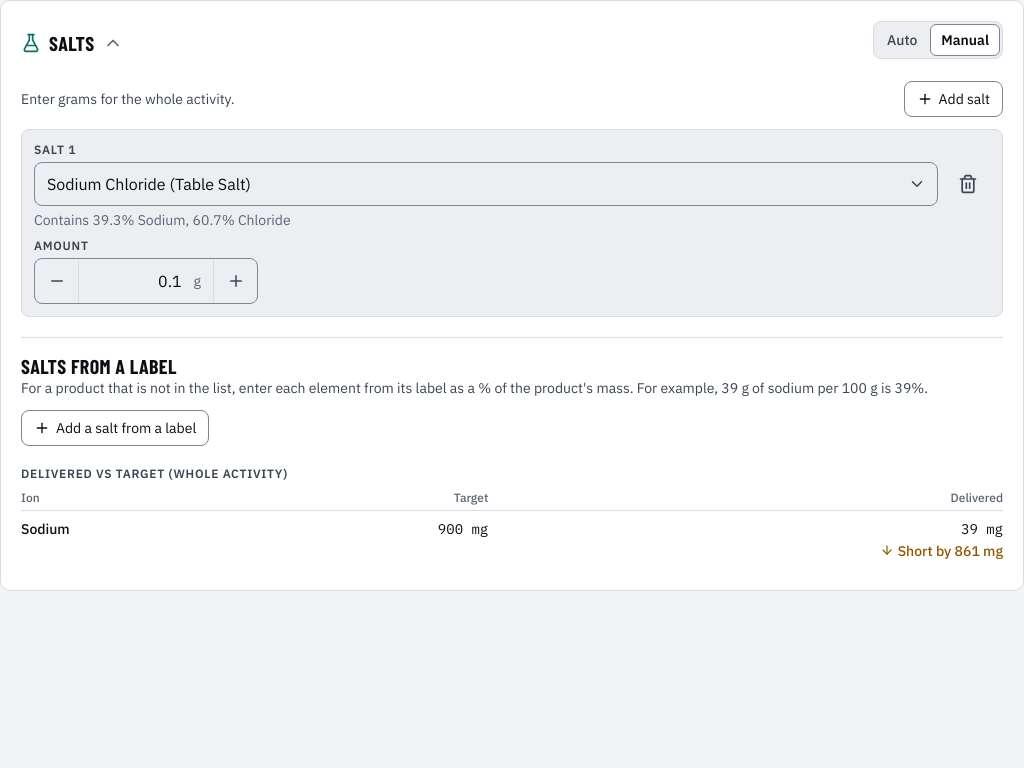
Test: SaltsSection: Manual › moves the focus to Add salt after removing the last row
This screenshot has width=1024, height=768.
Click the button named "Remove Sodium Chloride (Table Salt)": (968, 184) [946,162,990,206]
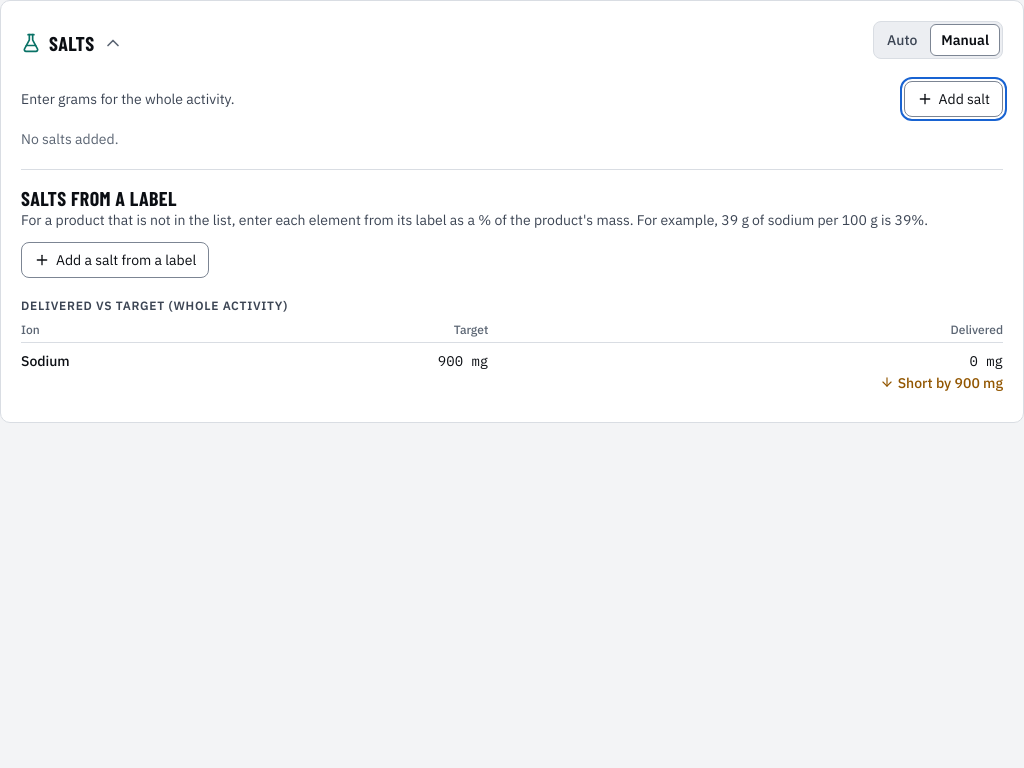
expect the text "No salts added." is shown: met, box [21,130,118,148]
